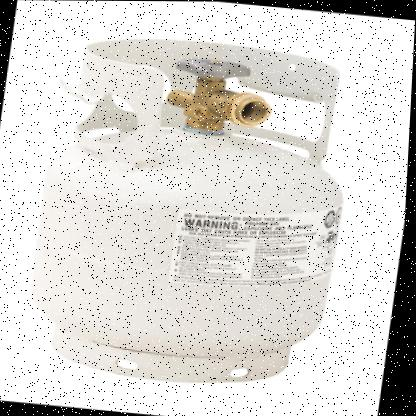gas-tank: (0, 5, 380, 403)
